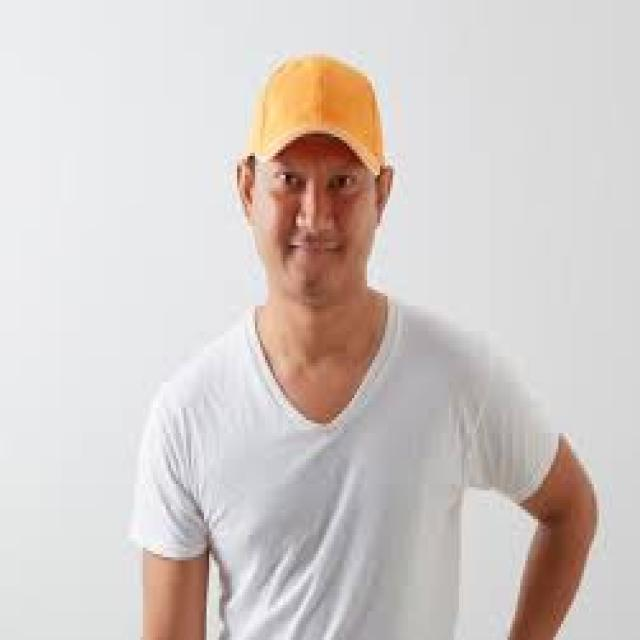3_gorra: (243, 51, 389, 178)
